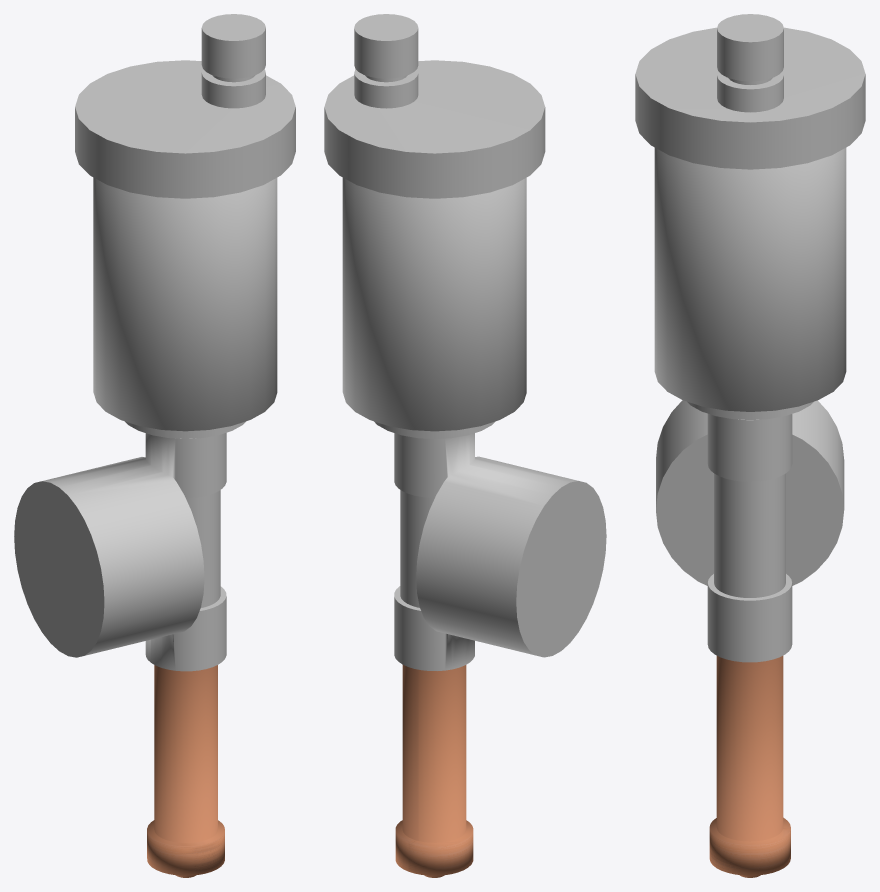
The model's file is Manifold Air Vent.fbx.
3 renders of one model, left to right at view 1: azimuth 30°, elevation 25°; view 2: azimuth 150°, elevation 25°; view 3: azimuth 270°, elevation 25°, orthographic. The views are drawn at different scales.
Parts seen in each view (by area): view 1: Air Relieve Valve.001, Tee.013, Tank Inlet Pipe.002, Pipe 17.011; view 2: Air Relieve Valve.001, Tee.013, Tank Inlet Pipe.002, Pipe 17.011; view 3: Air Relieve Valve.001, Tee.013, Tank Inlet Pipe.002, Pipe 17.011.
Part boxes in pixels (x1=…): Air Relieve Valve.001: x1=75, y1=14, x2=295, y2=438; Tee.013: x1=14, y1=433, x2=226, y2=671; Tank Inlet Pipe.002: x1=154, y1=665, x2=217, y2=842; Pipe 17.011: x1=147, y1=820, x2=224, y2=877; Air Relieve Valve.001: x1=324, y1=14, x2=545, y2=438; Tee.013: x1=394, y1=433, x2=606, y2=670; Tank Inlet Pipe.002: x1=402, y1=665, x2=466, y2=842; Pipe 17.011: x1=395, y1=820, x2=473, y2=877; Air Relieve Valve.001: x1=635, y1=14, x2=865, y2=419; Tee.013: x1=656, y1=400, x2=844, y2=662; Tank Inlet Pipe.002: x1=716, y1=656, x2=783, y2=841; Pipe 17.011: x1=709, y1=817, x2=790, y2=877.
Bounding box in the file's own units: 6.83 × 24.51 × 5.88.
